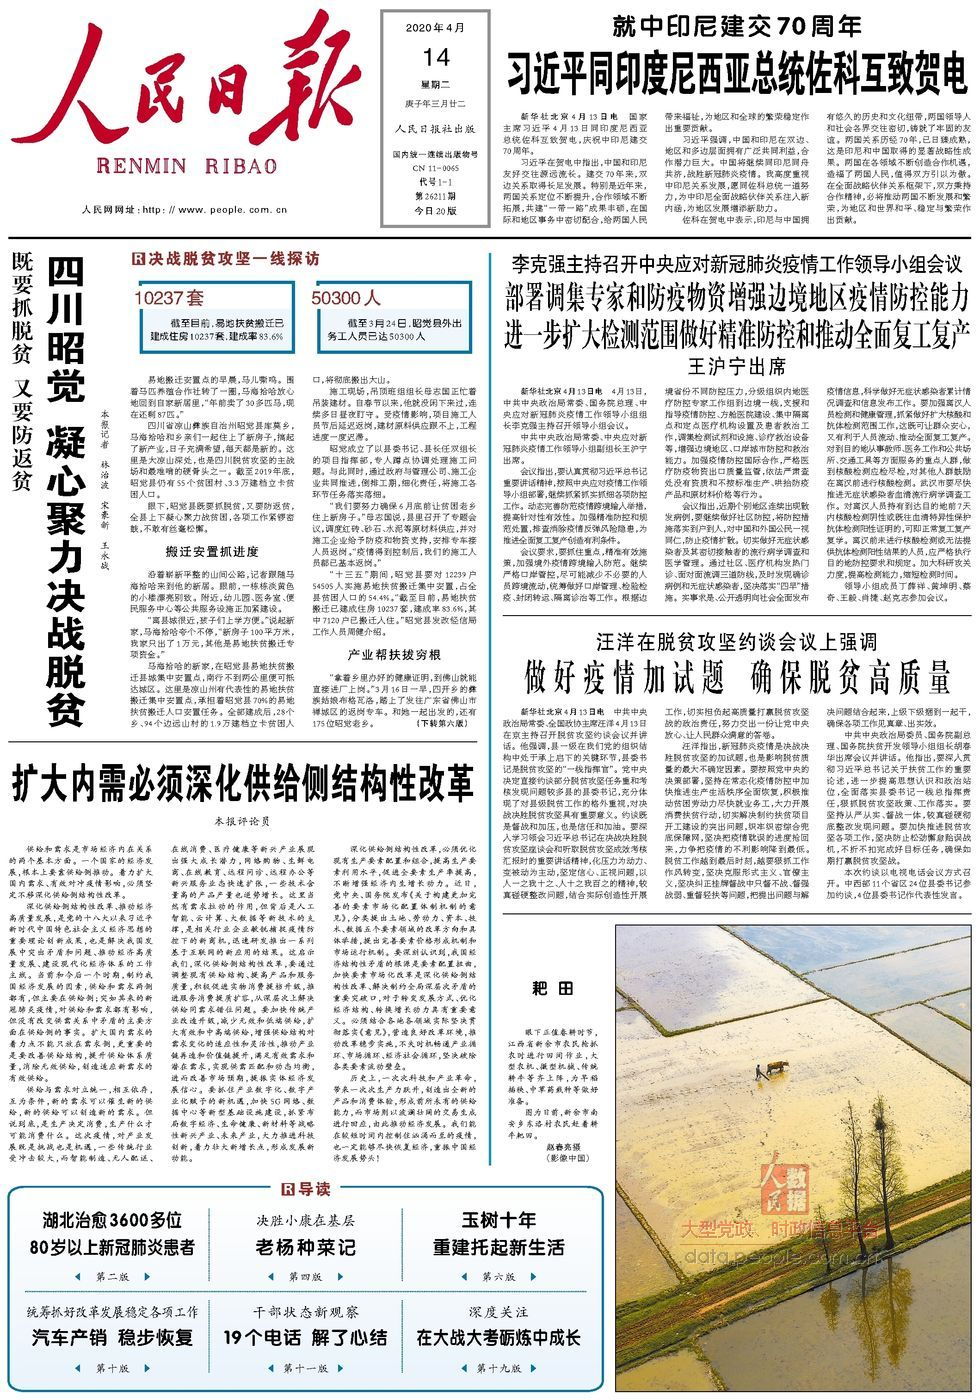pic: (611, 919, 977, 1397)
